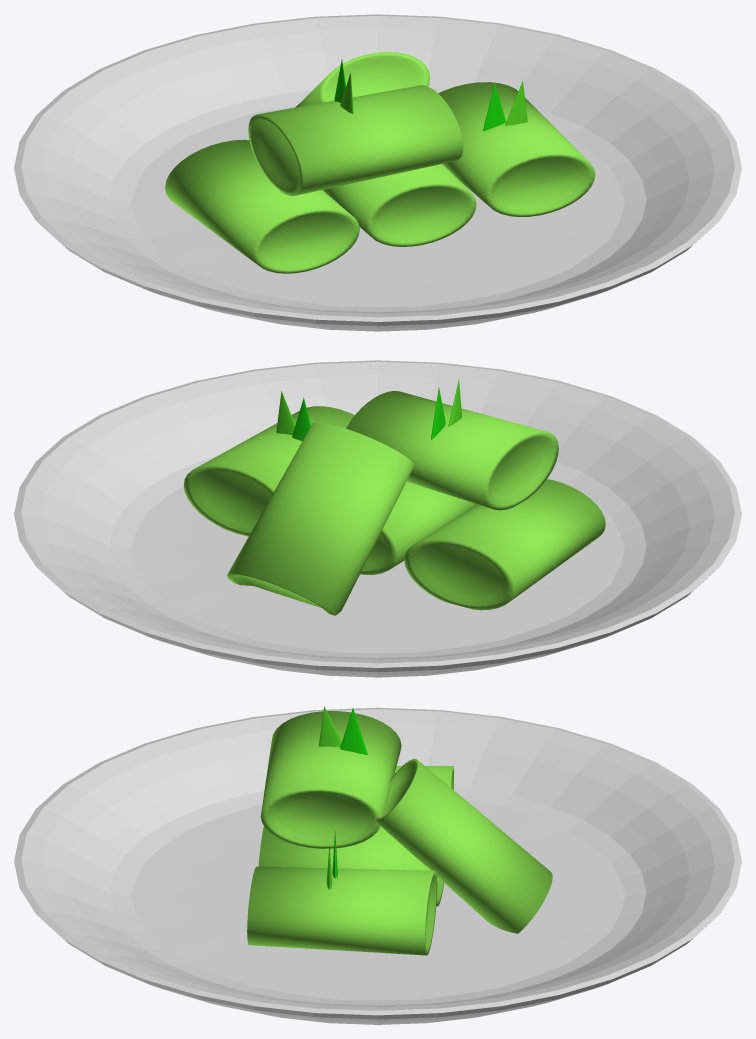
Rendered from getuk.fbx.
3 renders of one model, top to bottom at view 1: azimuth 30°, elevation 25°; view 2: azimuth 150°, elevation 25°; view 3: azimuth 270°, elevation 25°, orthographic.
Visible parts, largest first — view 1: Cylinder, Cylinder.004, Cylinder.005, Cylinder.002, Cylinder.001, Cylinder.003, Cone.002, Cone.003; view 2: Cylinder, Cylinder.003, Cylinder.005, Cylinder.004, Cylinder.002, Cylinder.001; view 3: Cylinder, Cylinder.002, Cylinder.004, Cylinder.003, Cylinder.001, Cone, Cone.001.
Boxes of the visible parts, x1,y1,x2,y2 form: Cylinder: [14, 14, 741, 331]; Cylinder.004: [248, 85, 463, 195]; Cylinder.005: [165, 139, 359, 273]; Cylinder.002: [438, 82, 595, 216]; Cylinder.001: [322, 164, 476, 246]; Cylinder.003: [295, 52, 430, 107]; Cone.002: [483, 83, 505, 131]; Cone.003: [505, 80, 527, 125]; Cylinder: [14, 360, 741, 677]; Cylinder.003: [227, 422, 414, 615]; Cylinder.005: [404, 479, 605, 610]; Cylinder.004: [346, 391, 558, 510]; Cylinder.002: [183, 406, 354, 536]; Cylinder.001: [360, 481, 476, 574]; Cylinder: [14, 707, 741, 1024]; Cylinder.002: [247, 866, 437, 955]; Cylinder.004: [260, 711, 401, 848]; Cylinder.003: [375, 758, 552, 933]; Cylinder.001: [258, 826, 444, 906]; Cone: [340, 708, 367, 755]; Cone.001: [318, 706, 342, 746].
Size of the model in its own units: 231 by 65.86 by 231.
